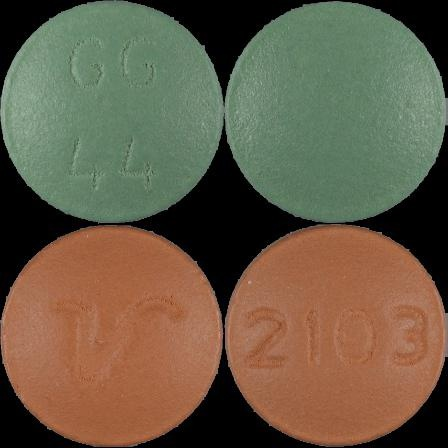50436-3072: (0, 0, 224, 224)
